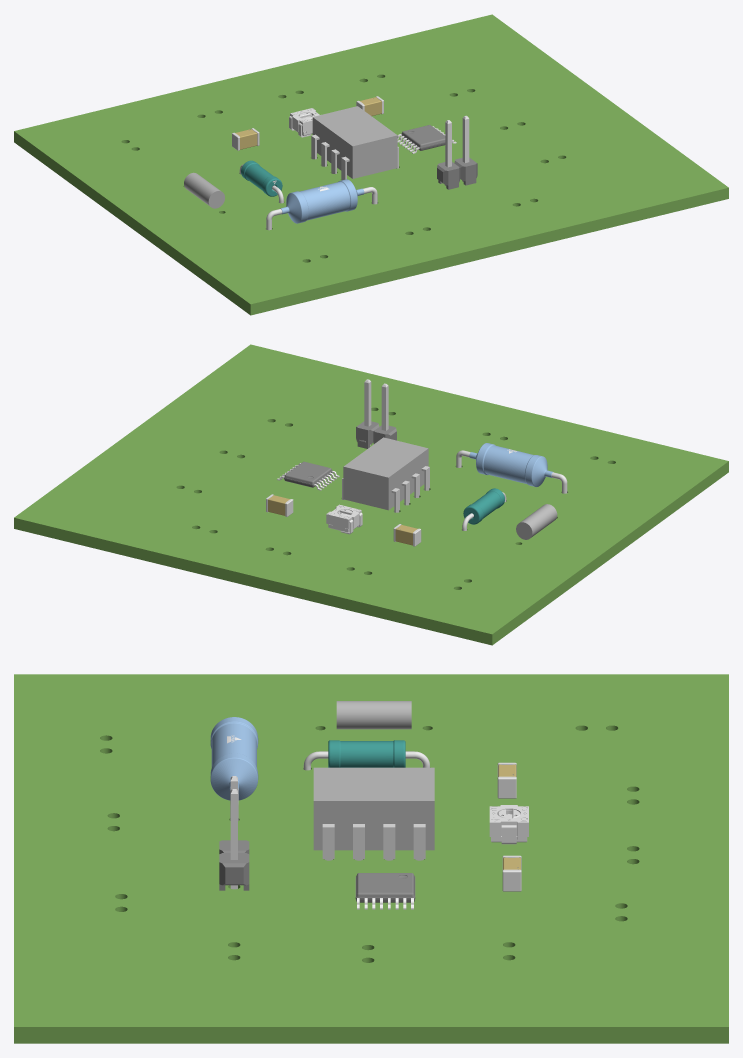
Rendered from LED_Chaser.glb.
The picture shows the model from 3 angles, top to bottom: view 1: azimuth 30°, elevation 25°; view 2: azimuth 150°, elevation 25°; view 3: azimuth 270°, elevation 25°; orthographic projection. The views are drawn at different scales.
Parts seen in each view (by area): view 1: Node9, Node2, Node10, Node6, Node11, Node5, Node3, Node1, Node12, Node8; view 2: Node9, Node2, Node10, Node6, Node8, Node5, Node3, Node11, Node1, Node12; view 3: Node9, Node2, Node10, Node6, Node5, Node1, Node3, Node8, Node11.
Boxes of the visible parts, x1=… form: Node9: x1=14, y1=14, x2=728, y2=315; Node2: x1=184, y1=106, x2=397, y2=208; Node10: x1=280, y1=179, x2=364, y2=223; Node6: x1=232, y1=96, x2=469, y2=230; Node11: x1=249, y1=98, x2=477, y2=189; Node5: x1=241, y1=160, x2=282, y2=196; Node3: x1=401, y1=125, x2=445, y2=150; Node1: x1=311, y1=134, x2=398, y2=180; Node12: x1=235, y1=97, x2=381, y2=149; Node8: x1=289, y1=108, x2=319, y2=137; Node9: x1=14, y1=344, x2=728, y2=645; Node2: x1=343, y1=437, x2=557, y2=539; Node10: x1=469, y1=443, x2=553, y2=487; Node6: x1=266, y1=379, x2=567, y2=546; Node8: x1=326, y1=504, x2=362, y2=534; Node5: x1=463, y1=488, x2=504, y2=524; Node3: x1=284, y1=461, x2=332, y2=487; Node11: x1=356, y1=421, x2=400, y2=529; Node1: x1=342, y1=466, x2=429, y2=512; Node12: x1=268, y1=495, x2=417, y2=545; Node9: x1=14, y1=674, x2=728, y2=1043; Node2: x1=313, y1=701, x2=434, y2=850; Node10: x1=210, y1=717, x2=258, y2=800; Node6: x1=230, y1=751, x2=521, y2=891; Node5: x1=328, y1=740, x2=405, y2=767; Node1: x1=322, y1=824, x2=425, y2=860; Node3: x1=355, y1=873, x2=415, y2=902; Node8: x1=489, y1=805, x2=528, y2=844; Node11: x1=219, y1=774, x2=518, y2=890.
Bounding box in the file's own units: 70 × 12.99 × 60.
